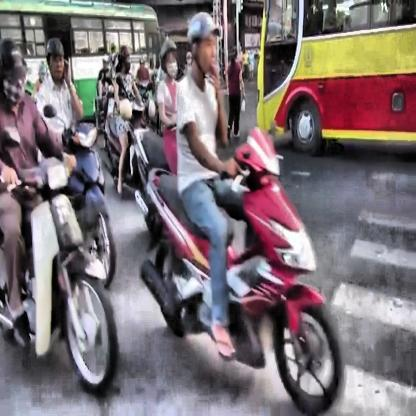wear: (187, 11, 222, 76), (1, 36, 29, 108), (158, 35, 180, 82), (45, 35, 67, 80)
